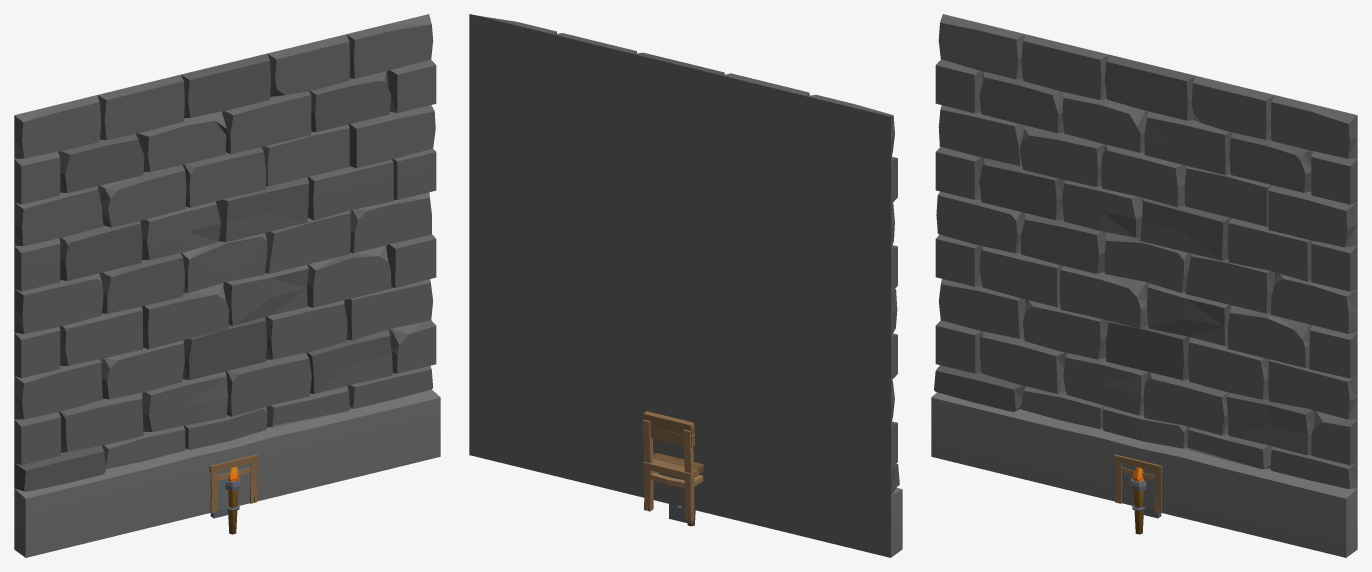
The model's file is dungeon.glb.
3 renders of one model, left to right at view 1: azimuth 30°, elevation 25°; view 2: azimuth 150°, elevation 25°; view 3: azimuth 330°, elevation 25°, orthographic.
Visible parts, largest first — view 1: Wall_27, Chair_05, Light_08; view 2: Wall_27, Chair_05; view 3: Wall_27, Chair_05, Light_08.
Boxes of the visible parts, box(x1,y1,x2,y2) form: Wall_27: box(14, 14, 440, 557); Chair_05: box(209, 454, 258, 513); Light_08: box(210, 467, 241, 534); Wall_27: box(469, 14, 902, 557); Chair_05: box(641, 411, 703, 521); Wall_27: box(931, 14, 1357, 557); Chair_05: box(1114, 454, 1162, 513); Light_08: box(1130, 467, 1161, 534).
Bounding box in the file's own units: 4 × 4.24 × 0.4809.
18 materials, 18 textured.
